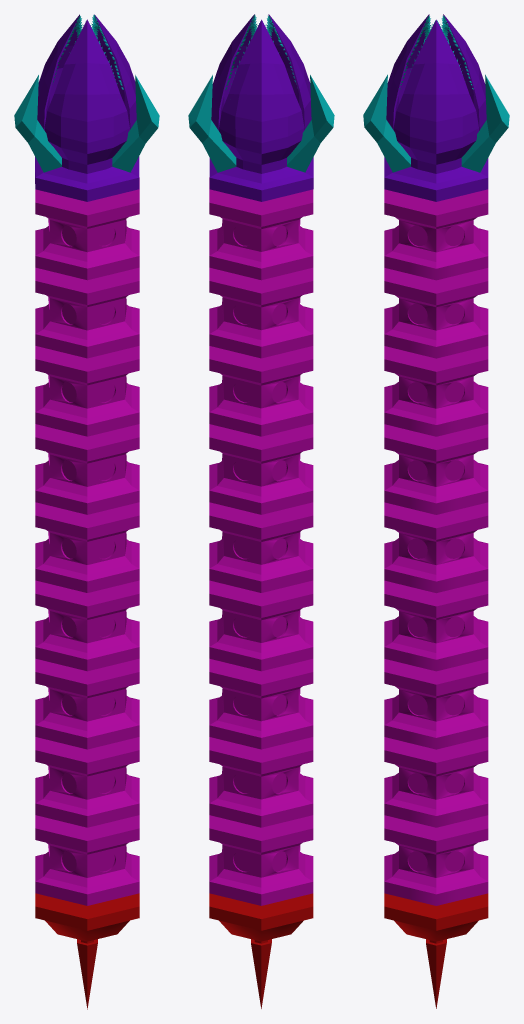
Rendered from boss.fbx.
The picture shows the model from 3 angles, left to right: view 1: azimuth 30°, elevation 25°; view 2: azimuth 150°, elevation 25°; view 3: azimuth 270°, elevation 25°; orthographic projection.
Parts seen in each view (by area): view 1: polySurface7, pCylinder39, pCylinder37, pCylinder36, pCylinder38, pCylinder3, pCylinder35, pCylinder32, pCylinder33, pCylinder34, pCylinder4; view 2: polySurface7, pCylinder39, pCylinder3, pCylinder36, pCylinder37, pCylinder32, pCylinder38, pCylinder35, pCylinder33, pCylinder34, pCylinder4; view 3: polySurface7, pCylinder39, pCylinder35, pCylinder3, pCylinder36, pCylinder34, pCylinder33, pCylinder37, pCylinder38, pCylinder32, pCylinder4.
Boxes of the visible parts, x1,y1,x2,y2 form: polySurface7: (14,14,159,201); pCylinder39: (35,177,139,280); pCylinder37: (35,346,139,436); pCylinder36: (35,424,139,514); pCylinder38: (35,267,139,358); pCylinder3: (35,815,139,905); pCylinder35: (35,502,139,592); pCylinder32: (35,737,139,827); pCylinder33: (35,658,139,749); pCylinder34: (35,580,139,671); pCylinder4: (35,893,139,1009); polySurface7: (188,14,334,201); pCylinder39: (209,177,313,280); pCylinder3: (209,815,313,905); pCylinder36: (209,424,313,514); pCylinder37: (209,346,313,436); pCylinder32: (209,737,313,827); pCylinder38: (209,267,313,358); pCylinder35: (209,502,313,592); pCylinder33: (209,658,313,749); pCylinder34: (209,580,313,671); pCylinder4: (209,893,313,1008); polySurface7: (363,14,509,201); pCylinder39: (384,189,488,280); pCylinder35: (384,502,488,593); pCylinder3: (384,815,488,905); pCylinder36: (384,424,488,514); pCylinder34: (384,580,488,671); pCylinder33: (384,659,488,749); pCylinder37: (384,346,488,436); pCylinder38: (384,268,488,358); pCylinder32: (384,737,488,827); pCylinder4: (384,893,488,1008).
Size of the model in its own units: 3.33 by 25.43 by 3.39.
